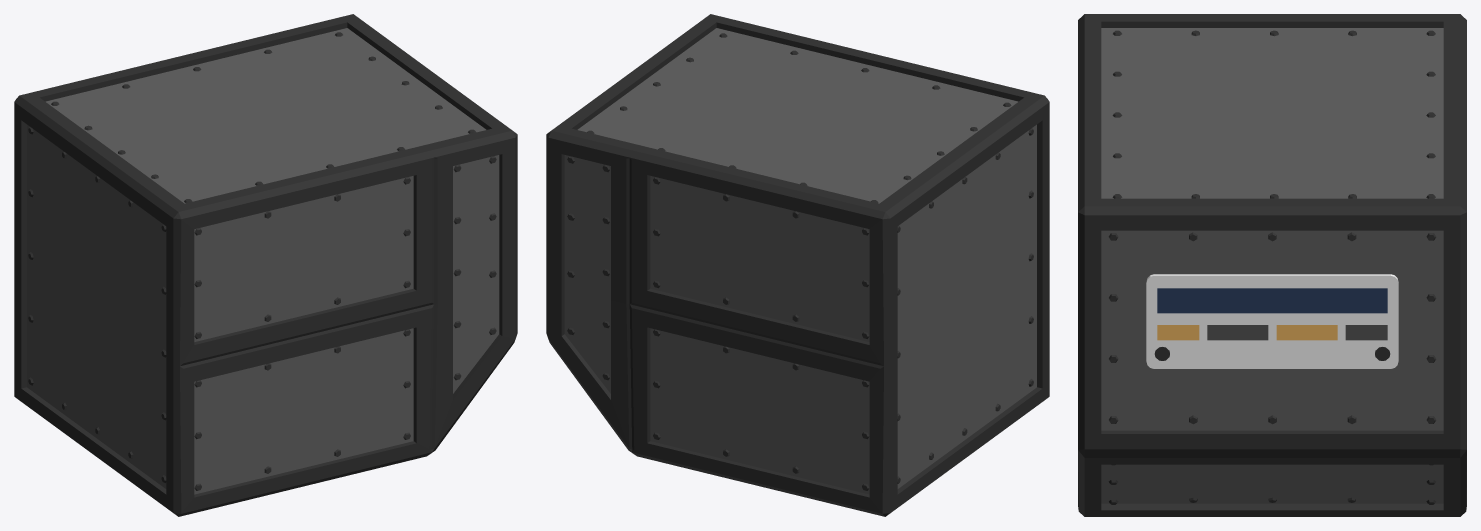
The model's file is 05_Container2_AIRPORT_0.obj.
3 views of the same model, side by side, from view 1: azimuth 30°, elevation 25°; view 2: azimuth 150°, elevation 25°; view 3: azimuth 270°, elevation 25° (orthographic). The views are drawn at different scales.
Parts seen in each view (by area): view 1: 05.Container2_AIRPORT_0; view 2: 05.Container2_AIRPORT_0; view 3: 05.Container2_AIRPORT_0.
Boxes of the visible parts, box(x1,y1,x2,y2) form: 05.Container2_AIRPORT_0: box(14, 14, 517, 516); 05.Container2_AIRPORT_0: box(546, 14, 1049, 516); 05.Container2_AIRPORT_0: box(1078, 14, 1466, 516).
Bounding box in the file's own units: 4.48 × 3.79 × 3.72.
Materials: 1 (1 with a texture image).
